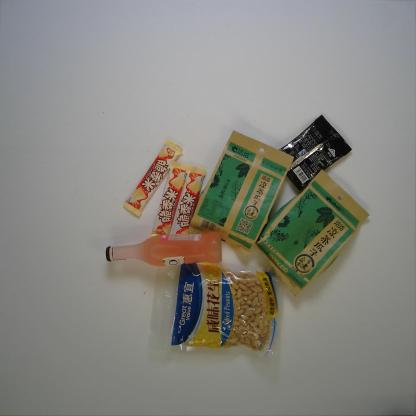Alcohol: (105, 228, 223, 267)
Chocolate: (122, 138, 184, 218), (149, 160, 190, 238), (171, 165, 207, 235)
Dried Food: (255, 168, 370, 297), (187, 129, 296, 259)
Dried Fruit: (146, 261, 285, 361)
Instant Drink: (278, 113, 353, 192)
